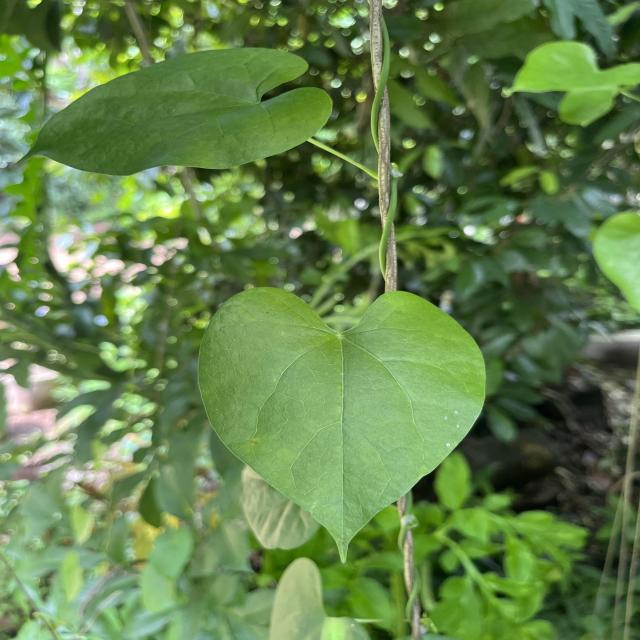Tinospora cordifolia: (193, 282, 493, 568), (8, 40, 337, 180)
